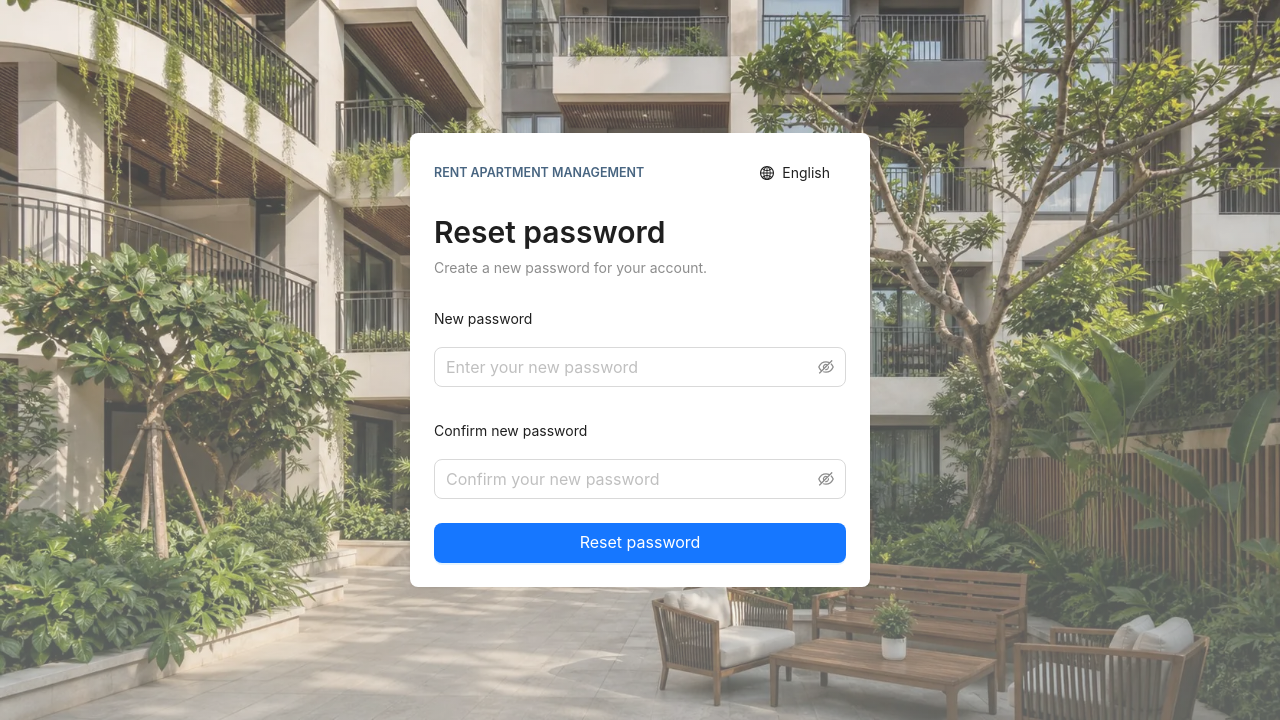
Scenario: ResetPasswordPage › sets a new password and signs out the current local session
Type "secure-password-123" into the password field labelled "New password".
click(630, 367); type("secure-password-123")  # box x1=446 y1=355 x2=814 y2=379
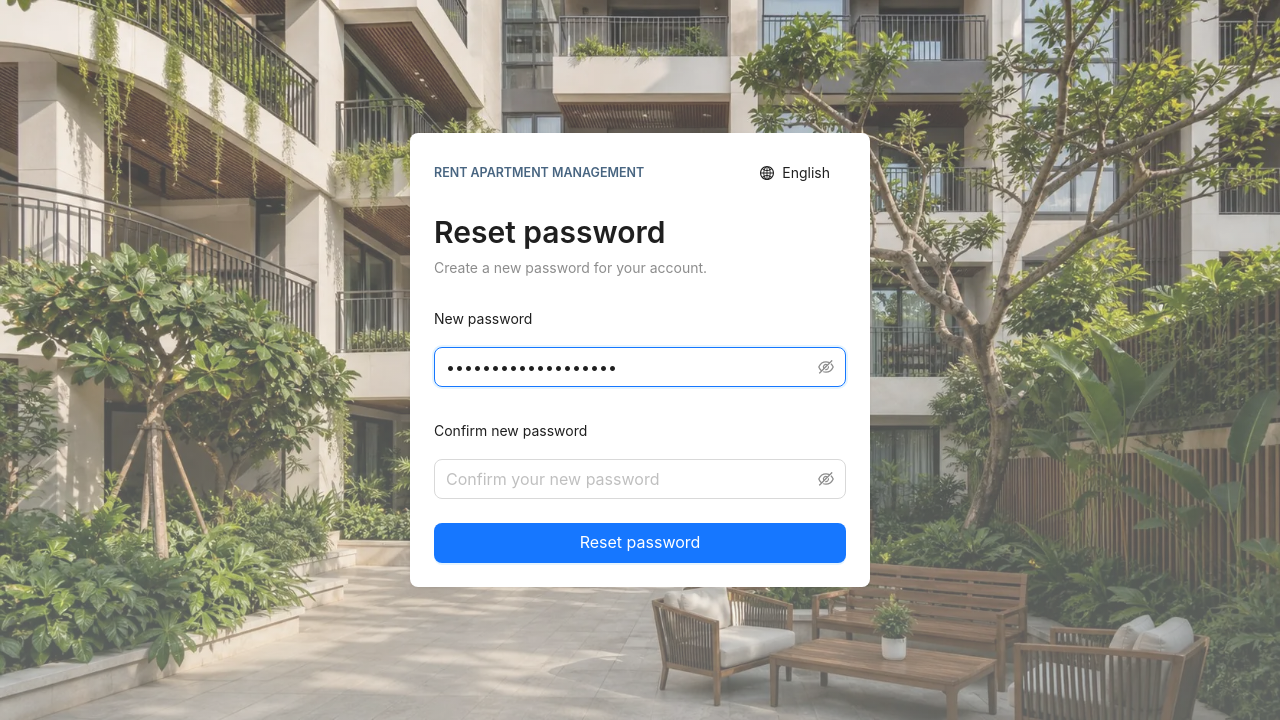
Type "secure-password-123" into the password field labelled "Confirm new password".
click(630, 479); type("secure-password-123")  # box x1=446 y1=467 x2=814 y2=491
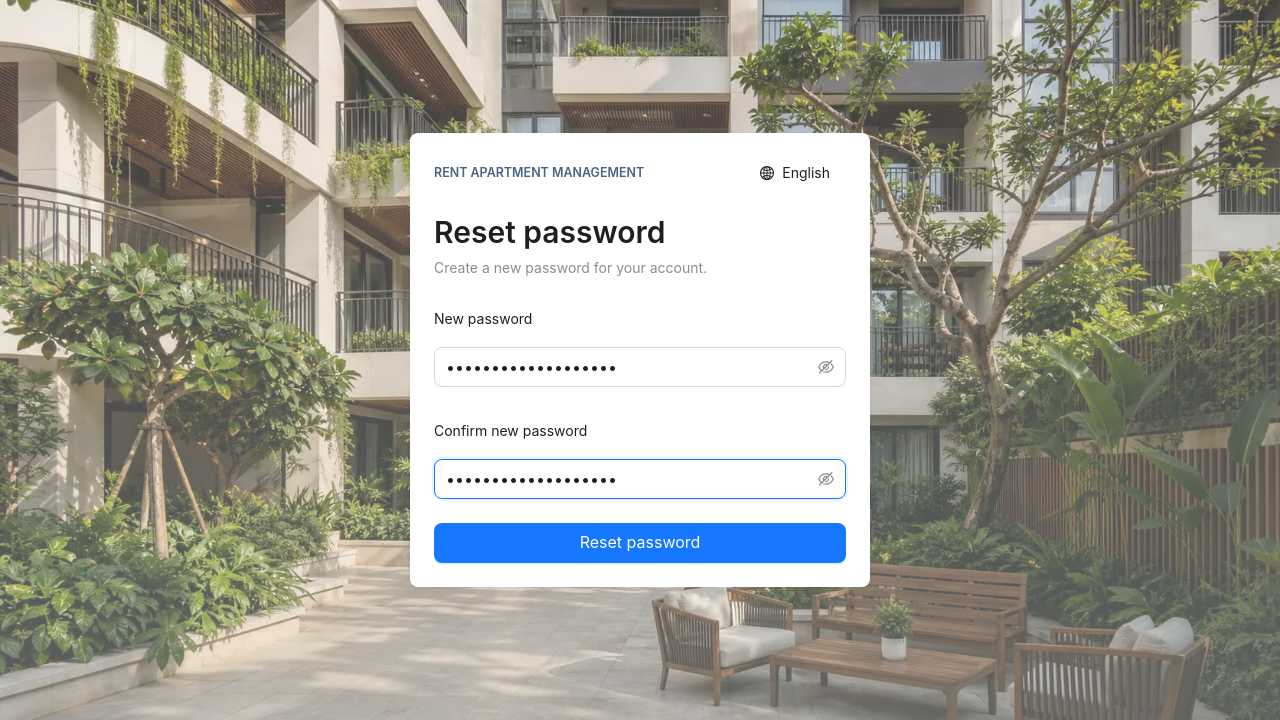
Click the button "Reset password".
click(640, 543)  # box x1=434 y1=523 x2=846 y2=563
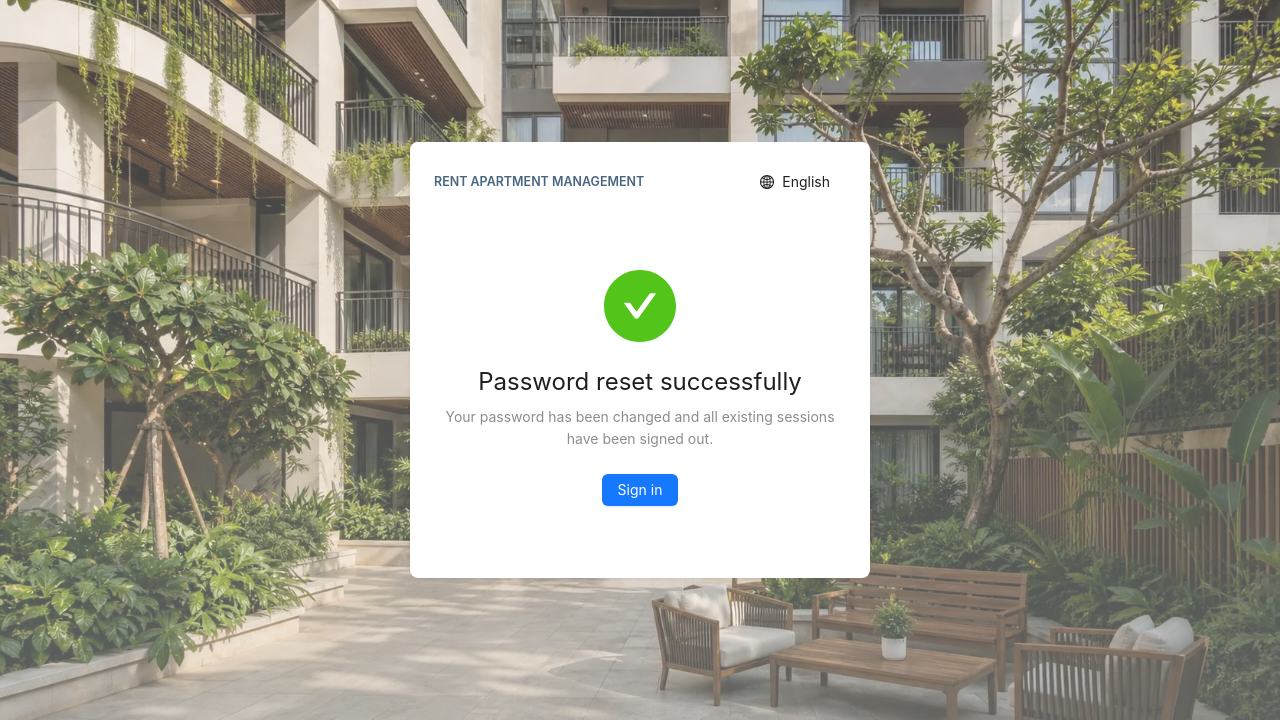
expect the text "Password reset successfully" is shown: met, box x1=478 y1=367 x2=802 y2=396
